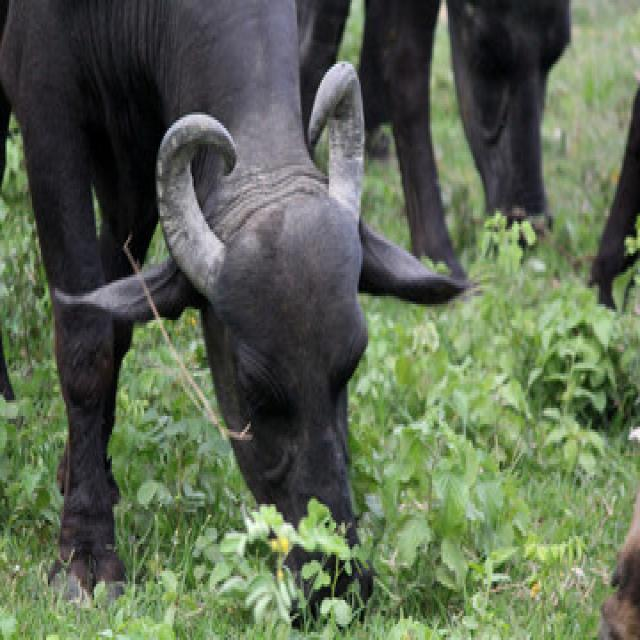Buffalo: (3, 0, 477, 603)
